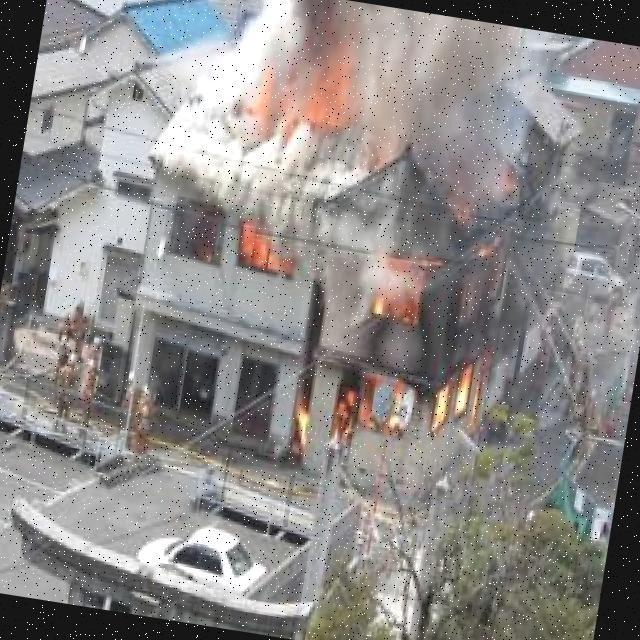Fire: (290, 153, 524, 479), (243, 31, 370, 150), (230, 211, 302, 287)
